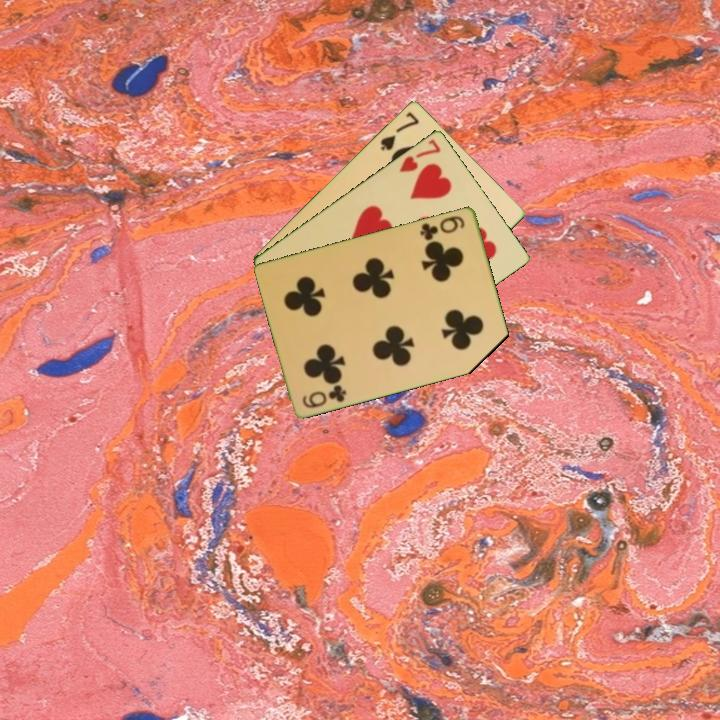6c: (416, 212, 468, 243), (299, 381, 349, 411)
7h: (396, 135, 444, 175)
7s: (377, 107, 422, 154)
